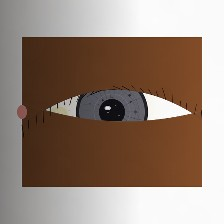pinguecula_lesion: (41, 99, 76, 127)
